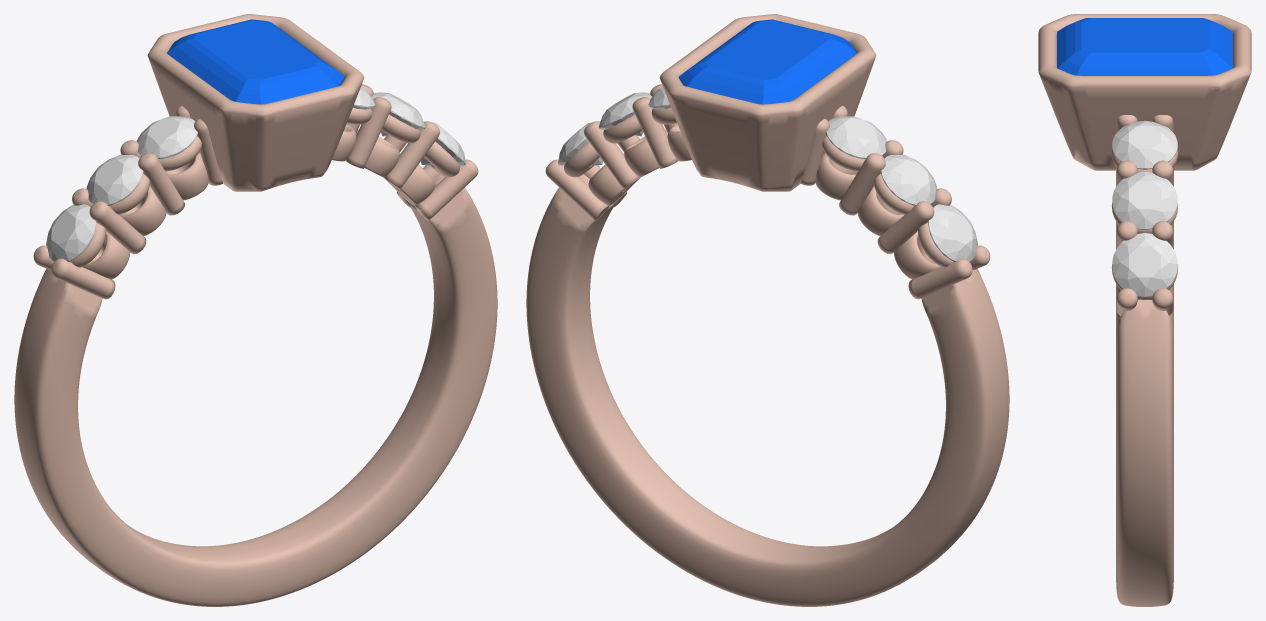
File: bluesapphire-emerald-rosegold-bezelset-straightband-7stone.glb
The picture shows the model from 3 angles, left to right: view 1: azimuth 30°, elevation 25°; view 2: azimuth 150°, elevation 25°; view 3: azimuth 270°, elevation 25°; orthographic projection.
Visible parts, largest first — view 1: metal.001, stone.001, side.006, side.007, side.008, side.010; view 2: metal.001, stone.001, side.006, side.007, side.008, side.010, side.011; view 3: metal.001, stone.001, side.011, side.010, side.009.
Boxes of the visible parts, x1=… form: metal.001: x1=14, y1=14, x2=497, y2=606; stone.001: x1=167, y1=19, x2=344, y2=104; side.006: x1=46, y1=204, x2=96, y2=261; side.007: x1=86, y1=154, x2=143, y2=205; side.008: x1=136, y1=116, x2=197, y2=159; side.010: x1=371, y1=92, x2=425, y2=136; metal.001: x1=526, y1=14, x2=1009, y2=606; stone.001: x1=679, y1=19, x2=856, y2=104; side.006: x1=927, y1=204, x2=977, y2=261; side.007: x1=880, y1=154, x2=937, y2=205; side.008: x1=826, y1=116, x2=887, y2=159; side.010: x1=598, y1=92, x2=652, y2=136; side.011: x1=558, y1=121, x2=602, y2=165; metal.001: x1=1038, y1=14, x2=1251, y2=606; stone.001: x1=1057, y1=18, x2=1232, y2=75; side.011: x1=1112, y1=233, x2=1177, y2=296; side.010: x1=1112, y1=171, x2=1177, y2=229; side.009: x1=1112, y1=120, x2=1177, y2=169.
Size of the model in its own units: 20.5 by 22.94 by 8.11.
